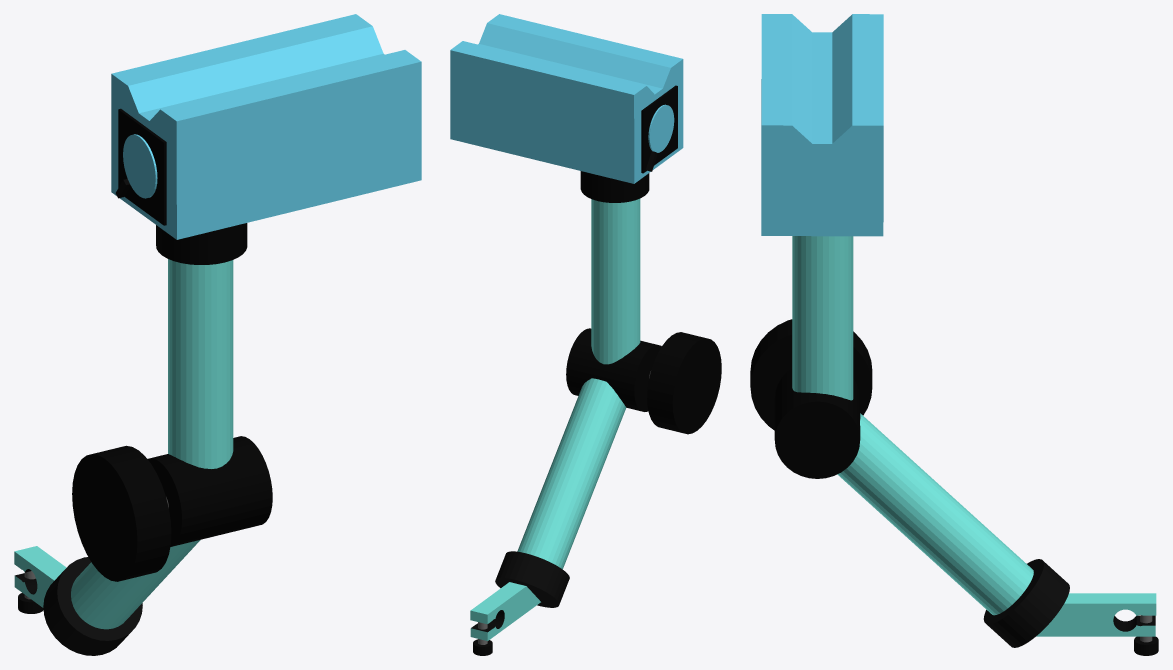
File: neu Stativ.fbx
The picture shows the model from 3 angles, left to right: view 1: azimuth 30°, elevation 25°; view 2: azimuth 150°, elevation 25°; view 3: azimuth 270°, elevation 25°; orthographic projection. The views are drawn at different scales.
Visible parts, largest first — view 1: Zylinder.016; view 2: Zylinder.016; view 3: Zylinder.016.
Part boxes in pixels (x1,y1,x2,y2): Zylinder.016: (14,14,421,655); Zylinder.016: (450,14,721,655); Zylinder.016: (750,14,1158,655).
Size of the model in its own units: 512 by 1102 by 669.
